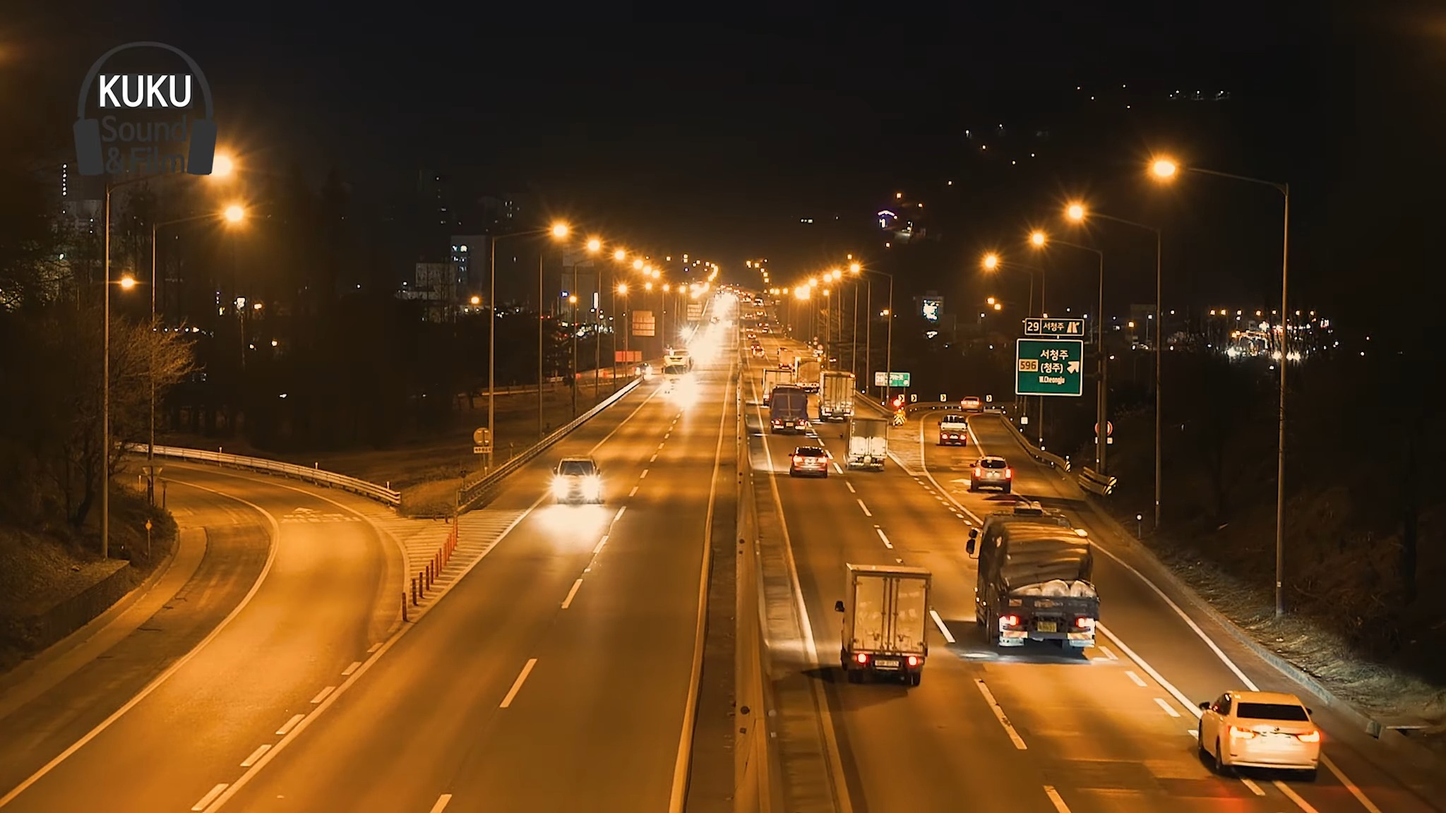car: (1194, 683, 1327, 780), (551, 457, 607, 509), (968, 456, 1017, 495), (788, 445, 833, 480)
truck: (980, 517, 1100, 660), (841, 558, 936, 684), (841, 408, 893, 474)
